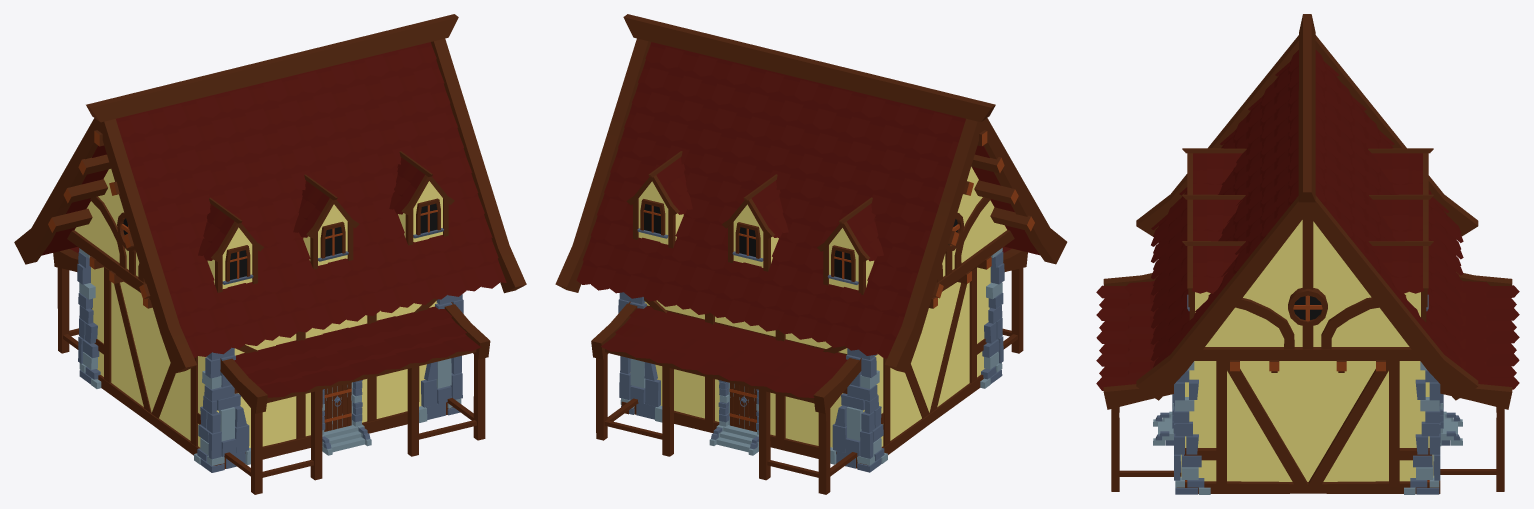
Rendered from Village_Inn.glb.
3 renders of one model, left to right at view 1: azimuth 30°, elevation 25°; view 2: azimuth 150°, elevation 25°; view 3: azimuth 270°, elevation 25°, orthographic.
Visible parts, largest first — view 1: Inn; view 2: Inn; view 3: Inn.
Part boxes in pixels (x1=…): Inn: x1=14, y1=14, x2=526, y2=494; Inn: x1=555, y1=14, x2=1067, y2=494; Inn: x1=1096, y1=14, x2=1519, y2=494.
Size of the model in its own units: 403 by 349 by 402.
